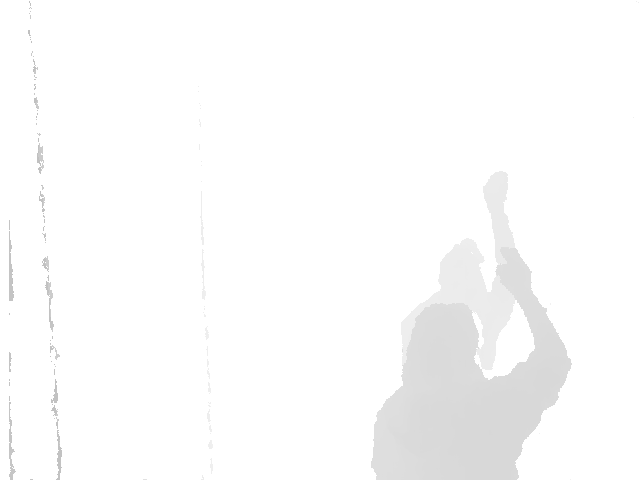hand: (494, 245, 534, 295), (482, 171, 508, 206)
head: (401, 303, 488, 387), (438, 240, 485, 294)
person: (369, 245, 572, 480), (399, 171, 520, 386)
